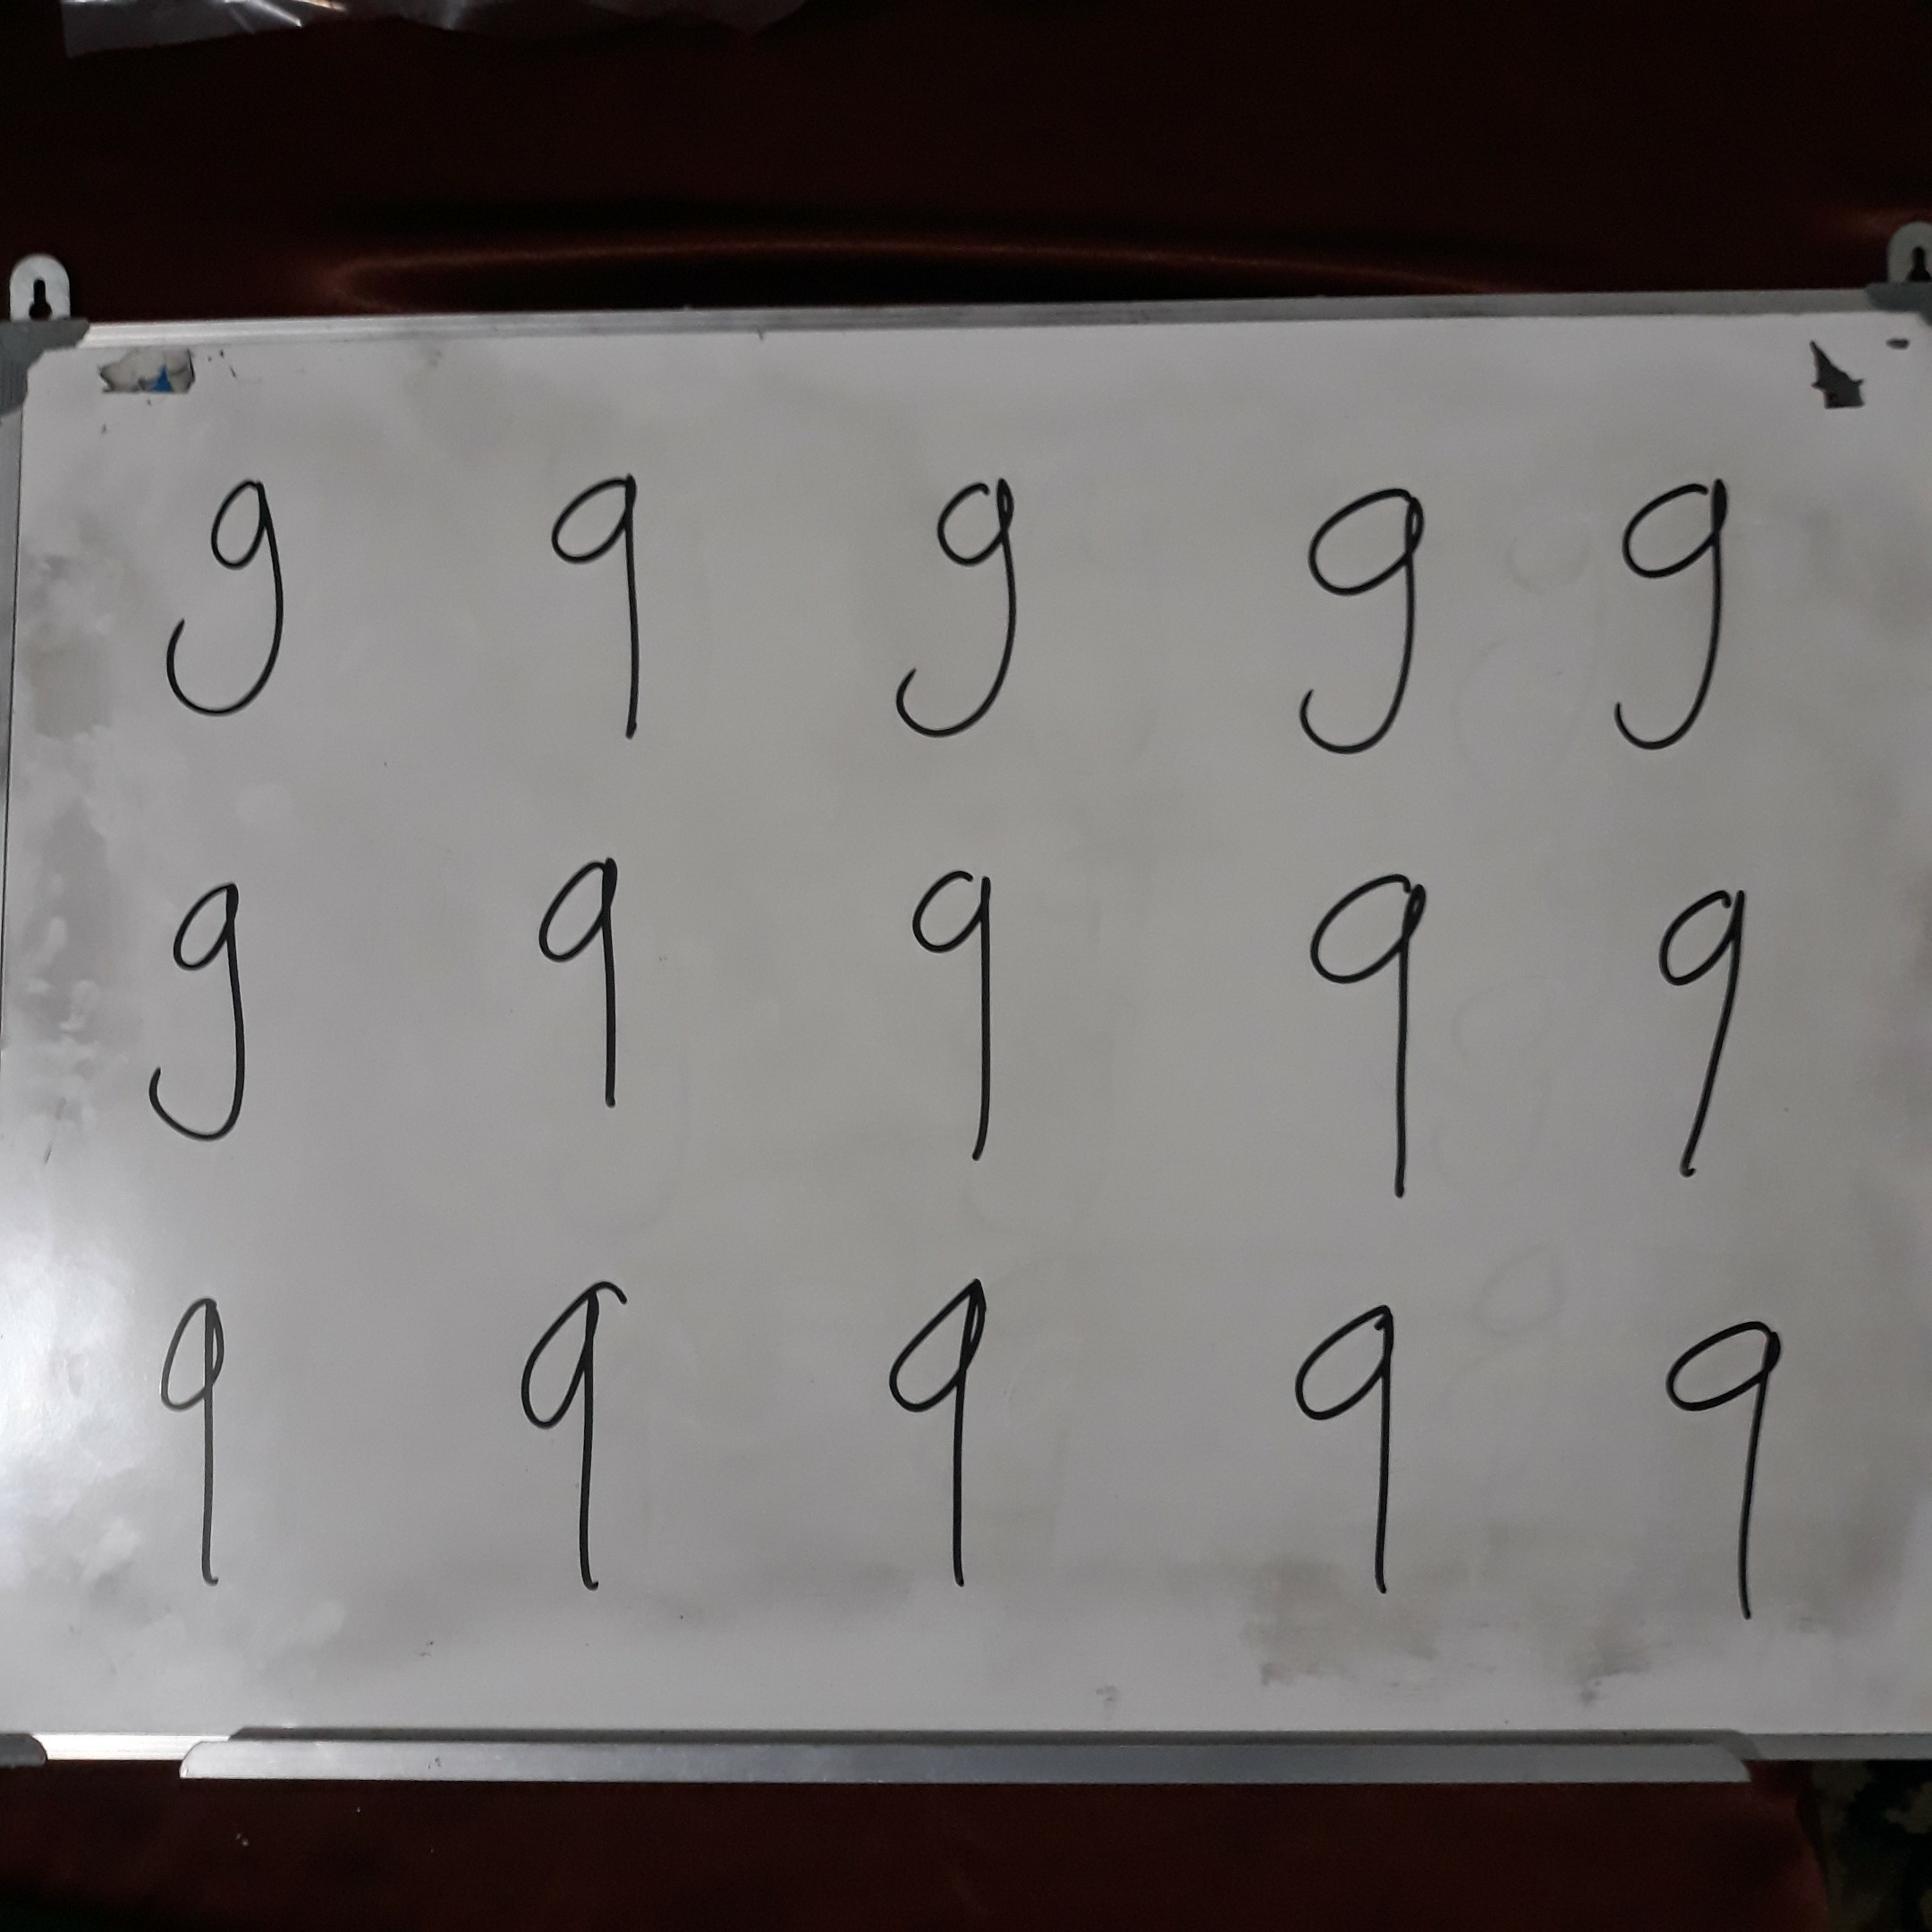num9: (1297, 848, 1448, 1210), (1652, 1307, 1809, 1630), (501, 1260, 645, 1609), (1623, 873, 1782, 1188), (1281, 1292, 1433, 1604), (1282, 464, 1436, 759), (874, 1262, 1006, 1604), (139, 457, 301, 733), (1595, 464, 1741, 767), (886, 459, 1033, 746), (134, 856, 267, 1155), (539, 461, 664, 750), (902, 857, 1016, 1167), (145, 1289, 254, 1602), (523, 843, 645, 1119)
